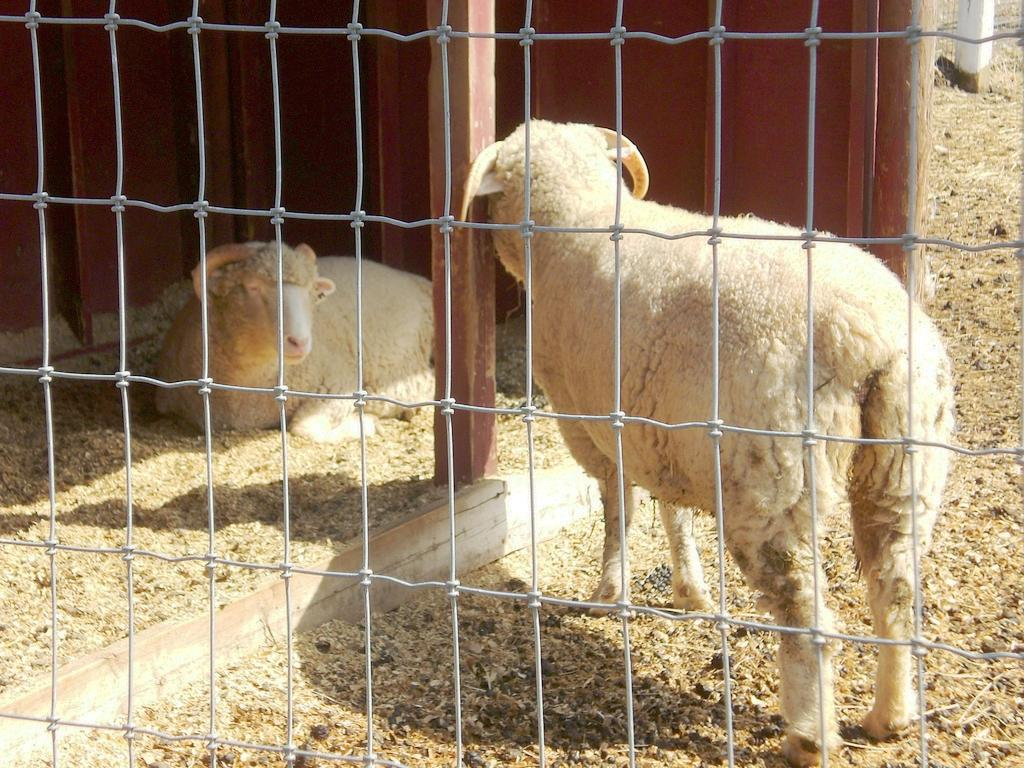Sheep: (438, 111, 937, 756), (153, 240, 437, 442)
